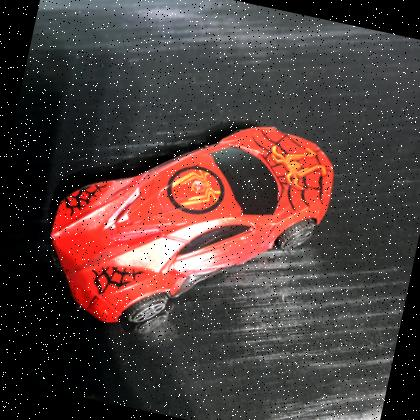Car: (23, 78, 351, 370)
